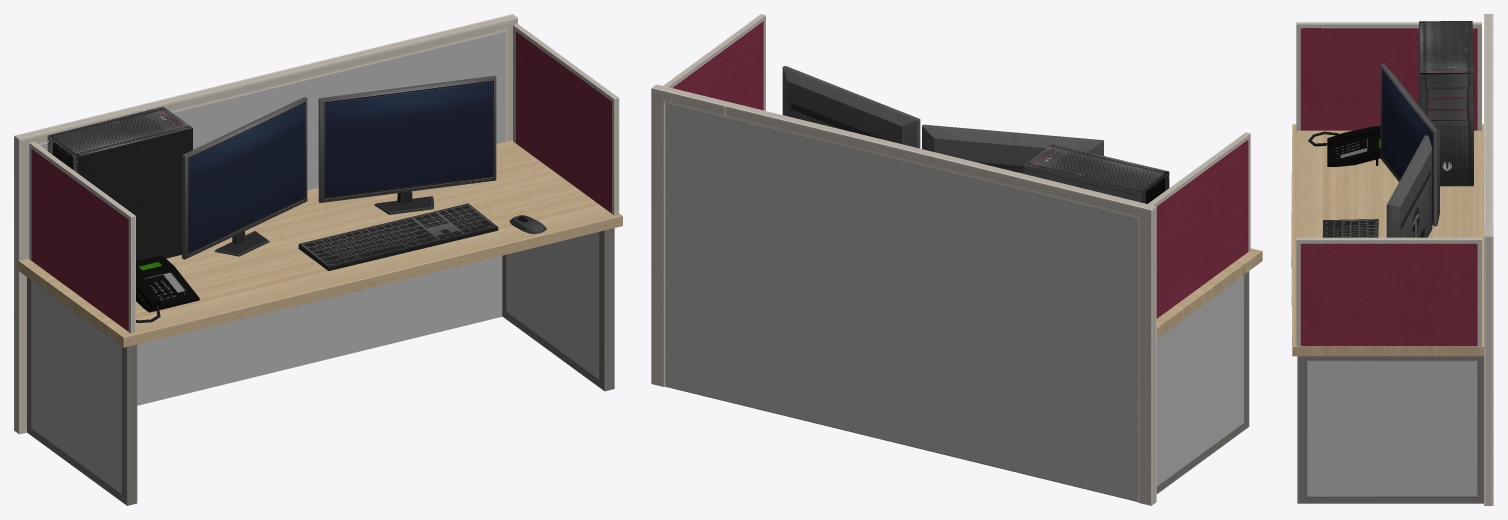
Rendered from office_cube_set2.fbx.
3 renders of one model, left to right at view 1: azimuth 30°, elevation 25°; view 2: azimuth 150°, elevation 25°; view 3: azimuth 270°, elevation 25°, orthographic. The views are drawn at different scales.
Visible parts, largest first — view 1: Office_cube_set_2; view 2: Office_cube_set_2; view 3: Office_cube_set_2.
Boxes of the visible parts, x1=… form: Office_cube_set_2: x1=14, y1=14, x2=622, y2=505; Office_cube_set_2: x1=651, y1=14, x2=1262, y2=505; Office_cube_set_2: x1=1291, y1=14, x2=1493, y2=505.
Size of the model in its own units: 194 by 111 by 74.39.
